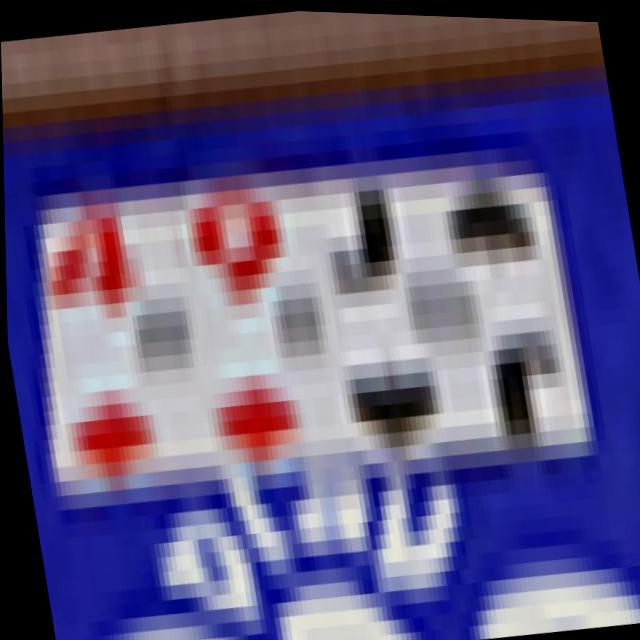Card-4: (42, 187, 208, 483)
Card-9: (177, 177, 352, 464)
Card-J: (312, 174, 588, 455)
